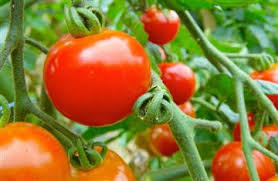tomato: (44, 31, 149, 128), (2, 122, 73, 177), (206, 139, 274, 178), (68, 145, 137, 179), (150, 59, 196, 104), (240, 60, 278, 107), (139, 7, 180, 45), (147, 123, 183, 158)
